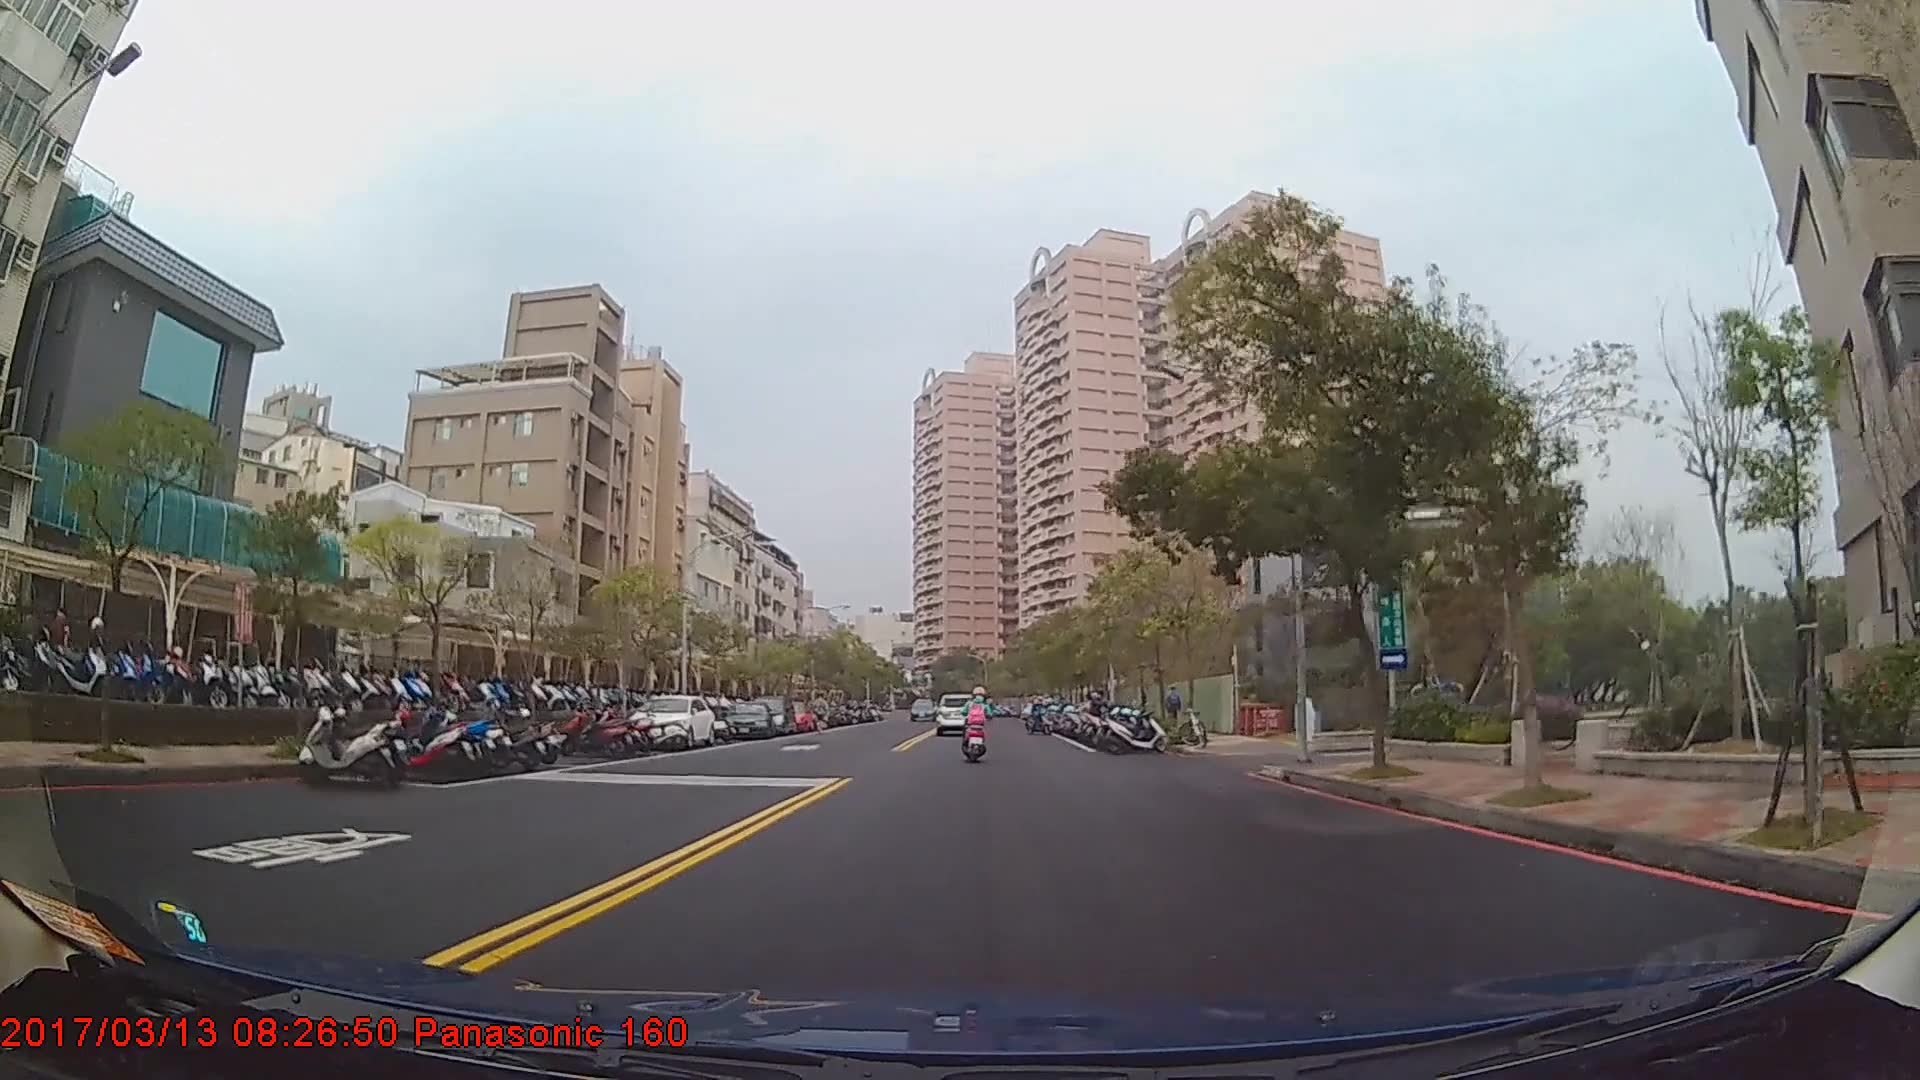pedestrian: (1165, 685, 1185, 735)
rider: (964, 683, 995, 757)
vehicle: (624, 692, 715, 748), (931, 690, 981, 734), (745, 694, 794, 738), (719, 700, 773, 740), (907, 697, 935, 721)
